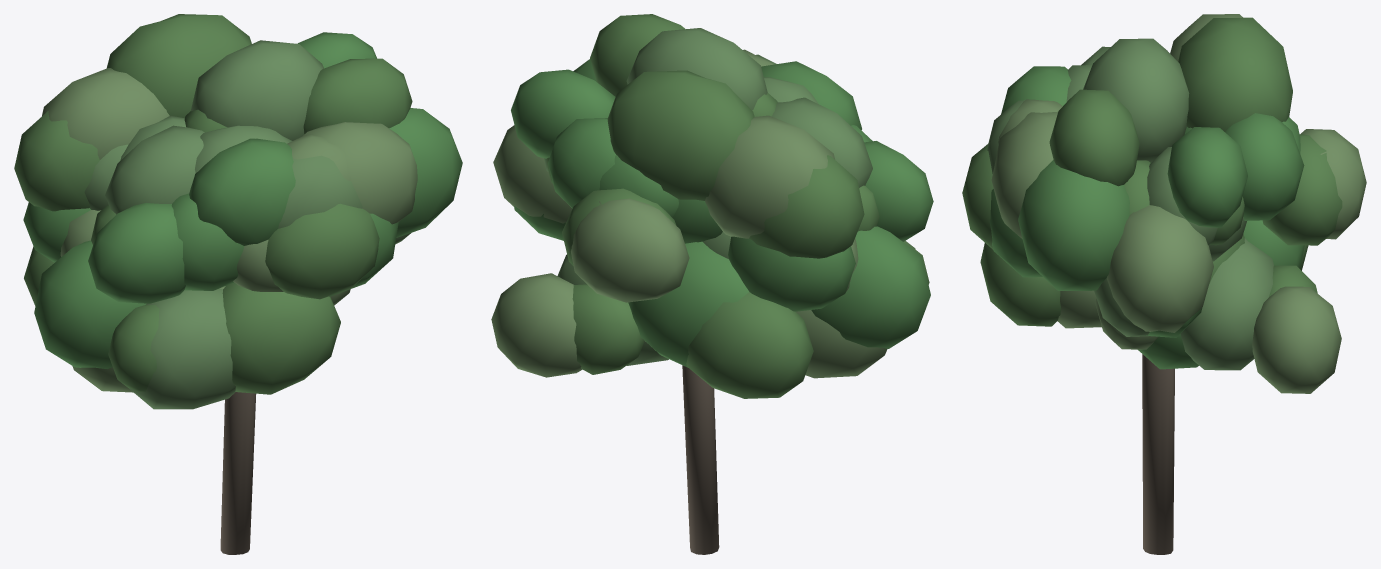
The model's file is district_oak.glb.
3 views of the same model, side by side, from view 1: azimuth 30°, elevation 25°; view 2: azimuth 150°, elevation 25°; view 3: azimuth 270°, elevation 25° (orthographic). The views are drawn at different scales.
Parts seen in each view (by area): view 1: leaf1, leaf0, leaf2, leaf3, timber; view 2: leaf0, leaf1, leaf3, leaf2, timber; view 3: leaf1, leaf0, leaf3, leaf2, timber.
Boxes of the visible parts, x1,y1,x2,y2 form: leaf1: (14, 14, 412, 394); leaf0: (23, 32, 462, 368); leaf2: (84, 40, 410, 409); leaf3: (42, 68, 417, 392); timber: (220, 392, 256, 554); leaf0: (511, 59, 933, 367); leaf1: (546, 14, 929, 398); leaf3: (491, 49, 887, 378); leaf2: (544, 28, 915, 365); timber: (682, 365, 719, 554); leaf1: (962, 17, 1342, 326); leaf0: (989, 66, 1304, 369); leaf3: (991, 14, 1366, 393); leaf2: (987, 38, 1273, 370); timber: (1142, 354, 1174, 554).
Size of the model in its own units: 6.85 by 8.15 by 5.77.
